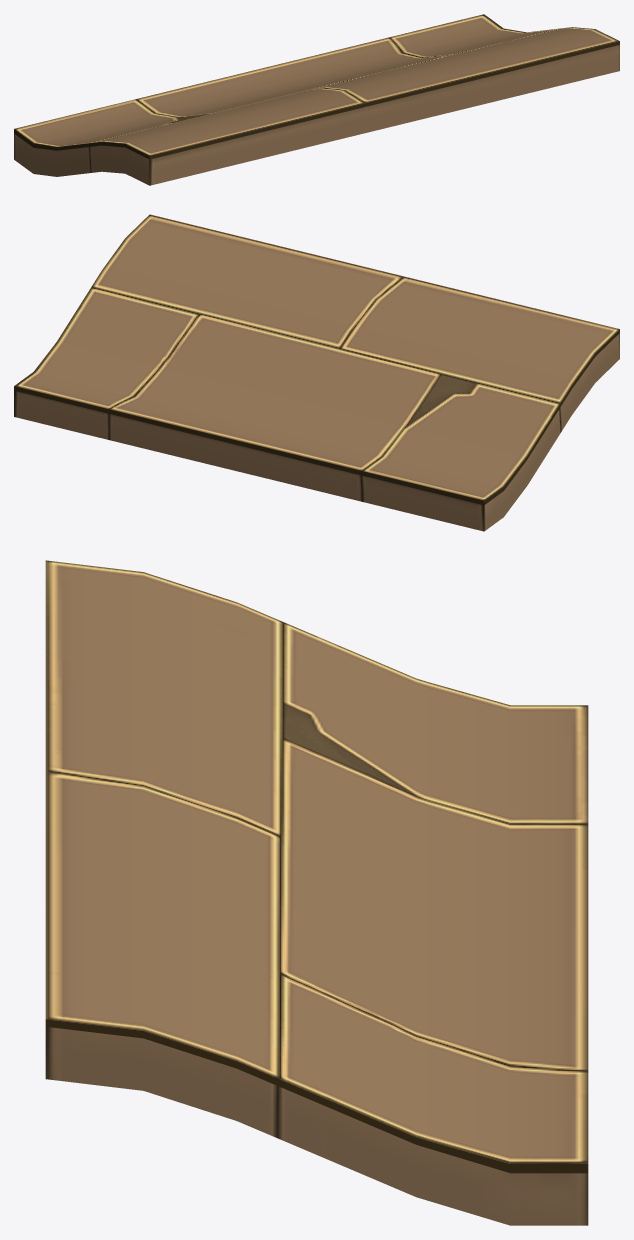
File: egypt_low_slope.gltf
The picture shows the model from 3 angles, top to bottom: view 1: azimuth 30°, elevation 25°; view 2: azimuth 150°, elevation 25°; view 3: azimuth 270°, elevation 25°; orthographic projection. The views are drawn at different scales.
Parts seen in each view (by area): view 1: egypt_low_slope_glb; view 2: egypt_low_slope_glb; view 3: egypt_low_slope_glb.
Boxes of the visible parts, x1,y1,x2,y2 form: egypt_low_slope_glb: (14, 14, 619, 185); egypt_low_slope_glb: (14, 214, 619, 531); egypt_low_slope_glb: (45, 560, 588, 1225).
Size of what is drawn, in the model's own units: 4 by 0.8385 by 2.
1 material, 1 textured.
